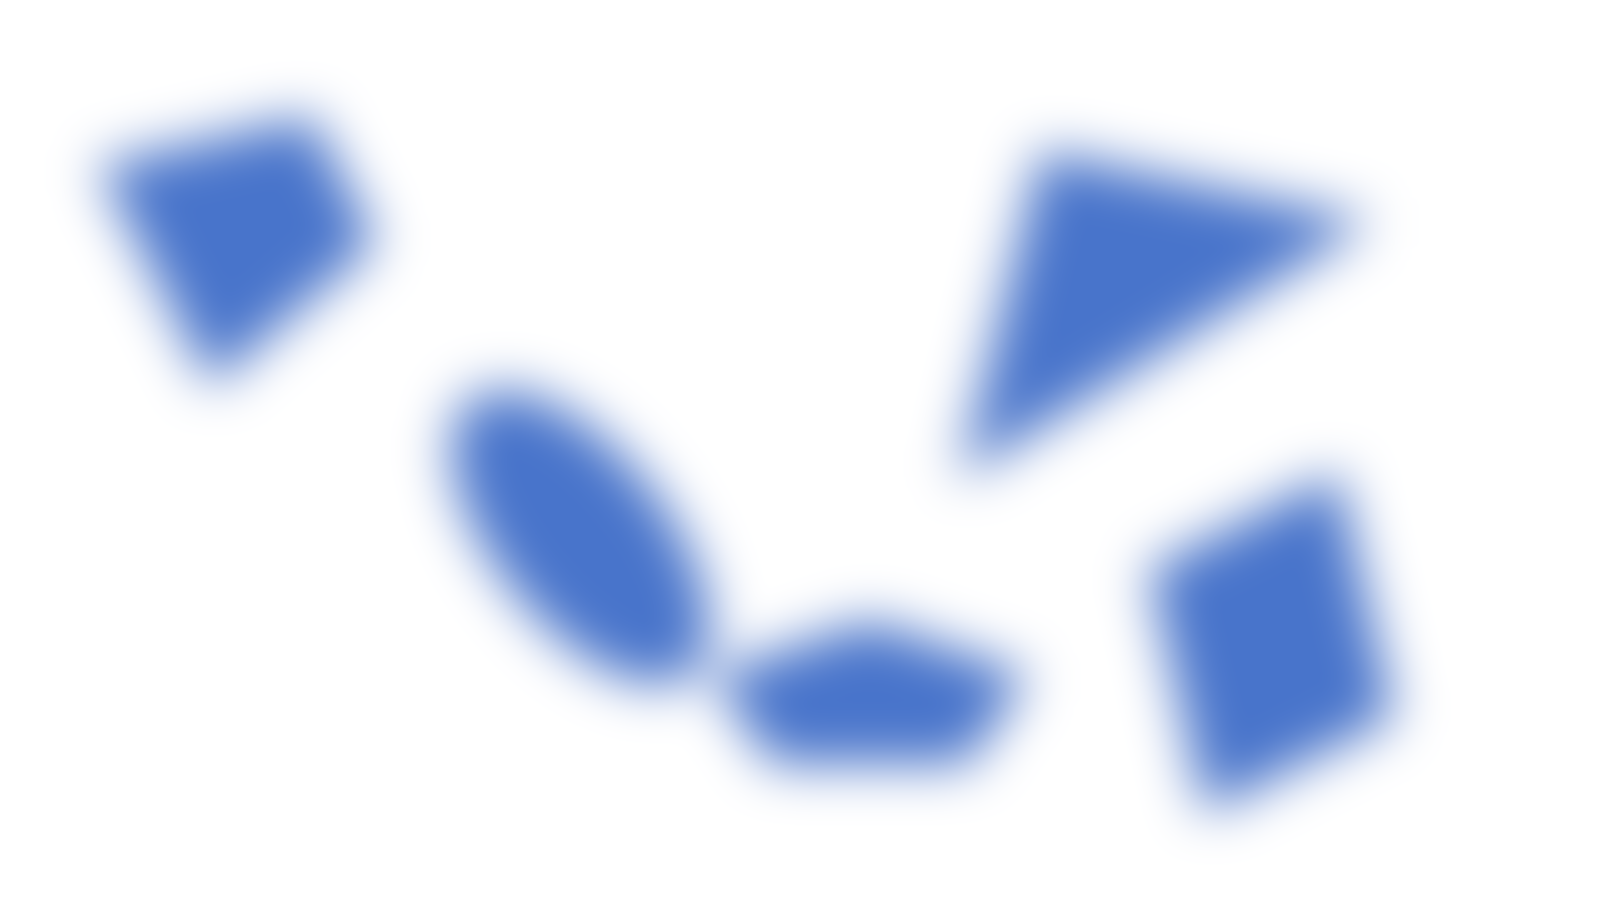circle: (430, 363, 739, 727)
parallelogram: (1127, 459, 1402, 806)
pentagon: (723, 588, 1026, 818)
trapezium: (73, 91, 401, 379)
triangle: (921, 118, 1371, 496)
